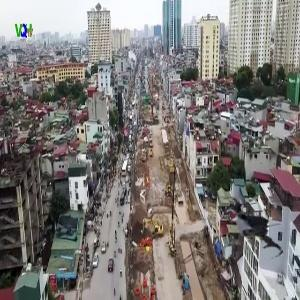drone: (218, 188, 296, 266)
